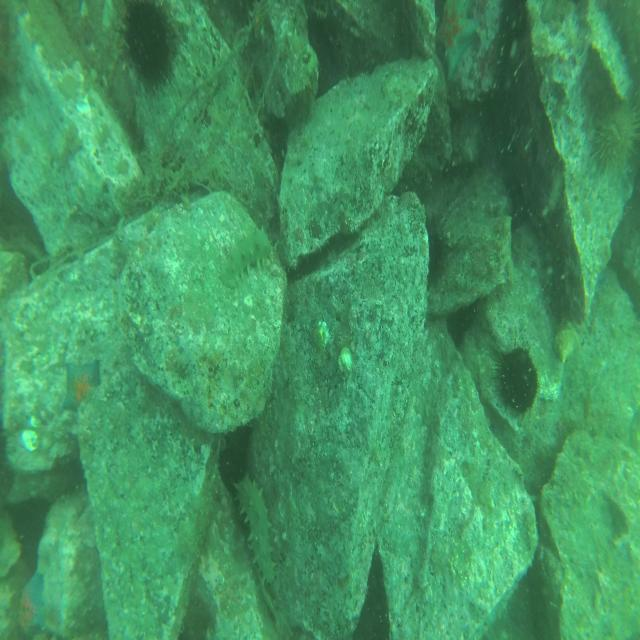echinus: (118, 0, 185, 97), (587, 87, 640, 180), (494, 339, 538, 421), (426, 207, 452, 286)
holothurian: (232, 470, 278, 586), (222, 228, 276, 288)
starfish: (435, 0, 477, 77), (56, 356, 102, 416), (16, 570, 48, 640)
